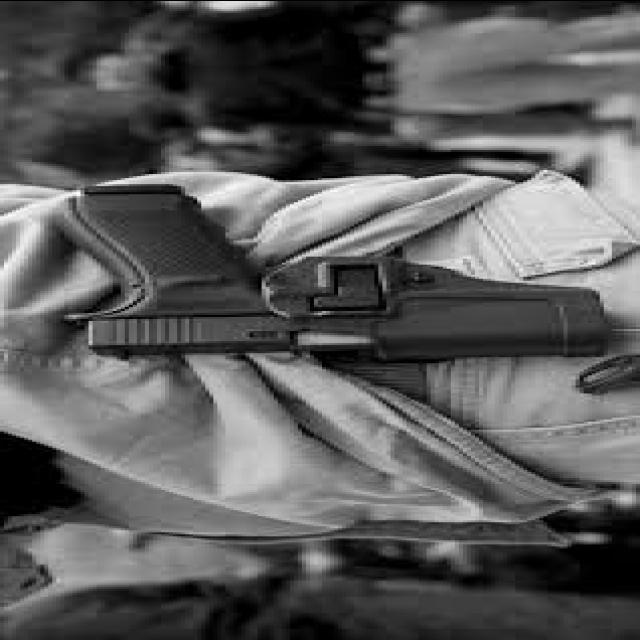weapons: (31, 170, 614, 376)
